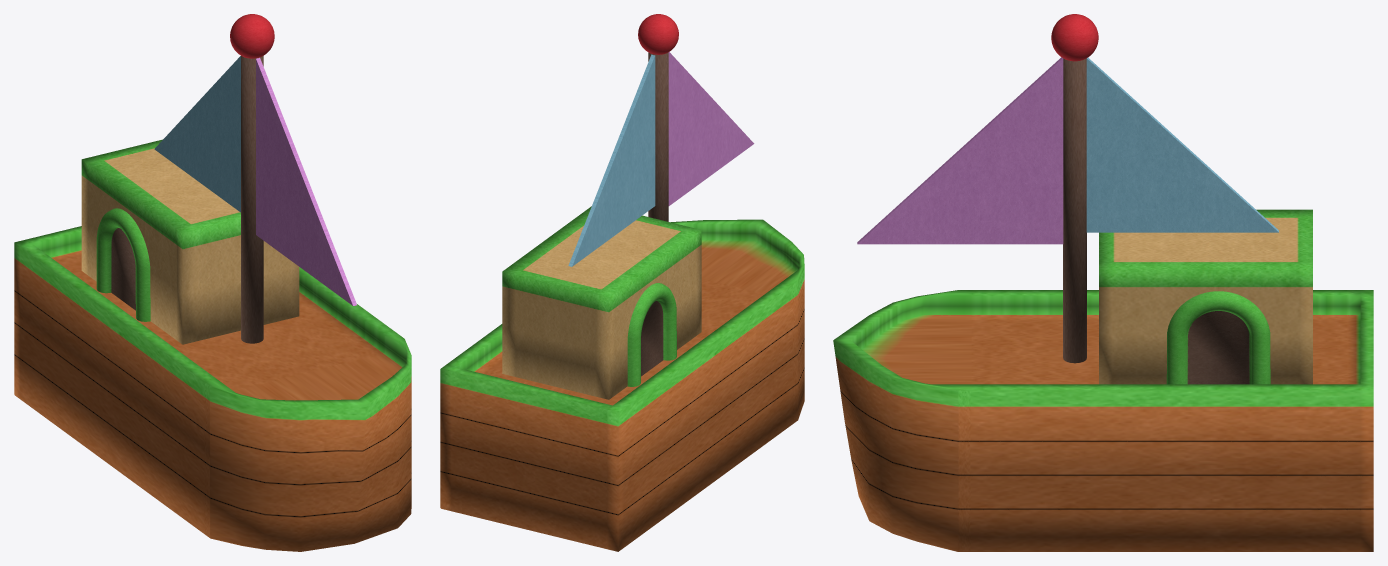
The model's file is FeltShip.fbx.
3 renders of one model, left to right at view 1: azimuth 30°, elevation 25°; view 2: azimuth 150°, elevation 25°; view 3: azimuth 270°, elevation 25°, orthographic. The views are drawn at different scales.
Visible parts, largest first — view 1: body, door; view 2: body, door; view 3: body, door.
Boxes of the visible parts, bbox=[...] form: body: bbox=[14, 14, 411, 551]; door: bbox=[96, 208, 150, 321]; body: bbox=[440, 14, 804, 551]; door: bbox=[627, 283, 676, 386]; body: bbox=[833, 14, 1373, 551]; door: bbox=[1166, 291, 1270, 384].
Size of the model in its own units: 4 by 9.02 by 9.1.
